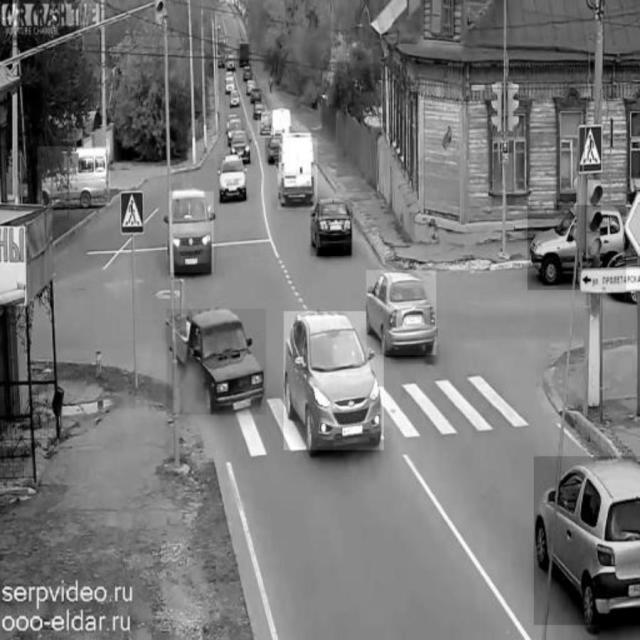vehicle: (534, 456, 640, 624), (284, 311, 384, 449), (166, 309, 266, 415), (528, 205, 626, 289), (367, 270, 437, 354), (38, 146, 111, 204), (169, 192, 214, 273), (277, 137, 317, 210), (310, 201, 354, 257), (218, 155, 246, 202), (230, 130, 252, 164), (266, 131, 283, 163), (258, 109, 275, 137), (237, 39, 252, 67), (227, 89, 242, 114), (222, 75, 237, 99), (247, 87, 265, 105)
